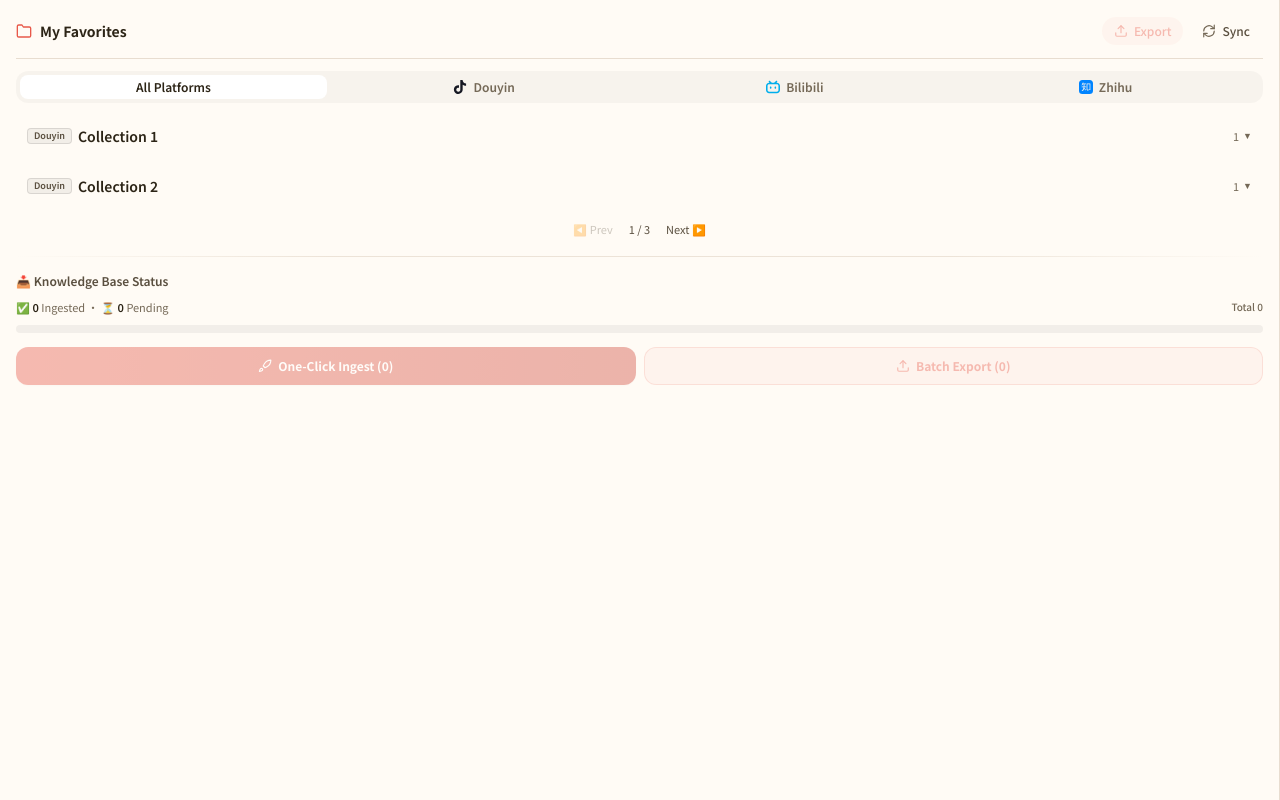
Test: P2 — the collection page resets only on platform change, per-page change, or an explicit refresh (AC2) › P2c. clicking the already-selected platform (an explicit refresh) resets the page to 1
expect the text "Collection 1" is shown: met, box [78,126,158,146]
What coordinates should you click on to do the following:
click the button "Next ▶"
I would click on:
 (686, 229)
Its box is [658,219,714,240].
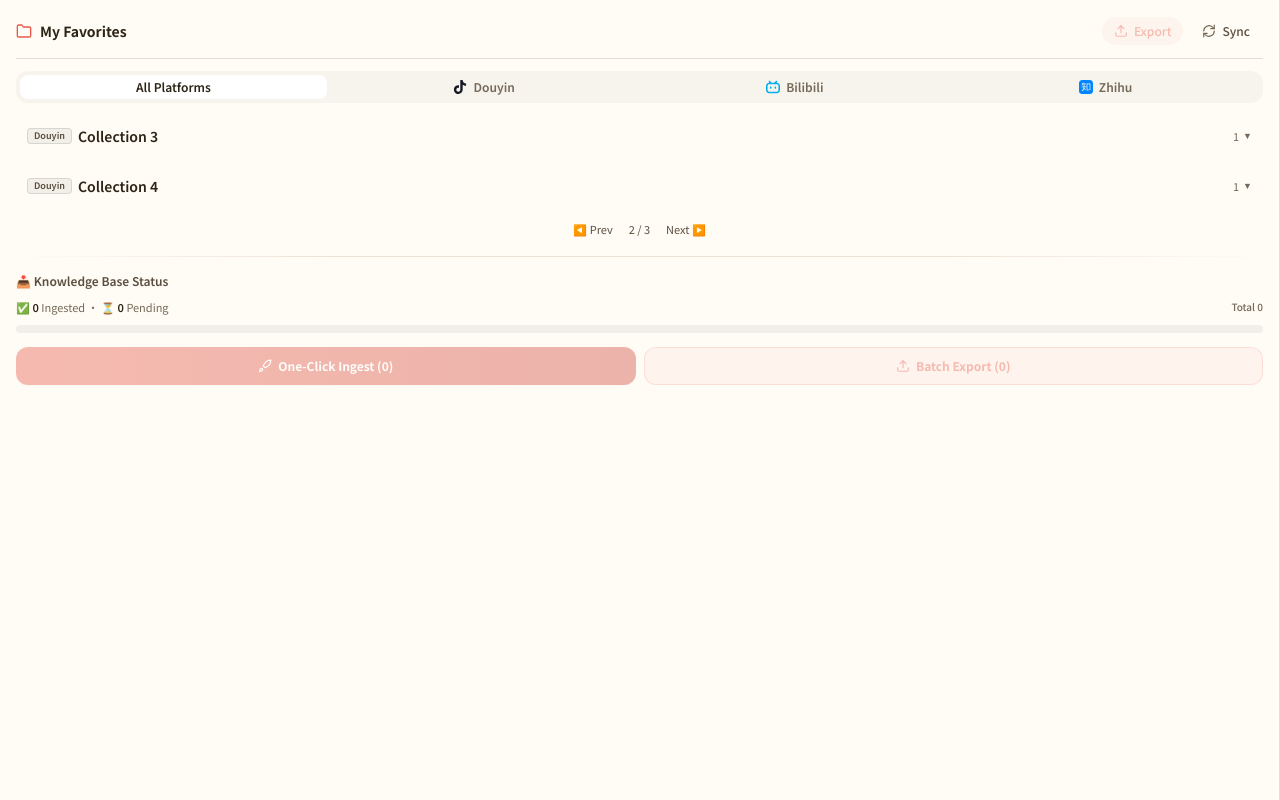
expect the text "Collection 3" is shown: met, box [78,126,158,146]
What coordinates should you click on to do the following:
click the button "All Platforms"
I would click on:
 (173, 87)
Its box is [20,75,327,99].
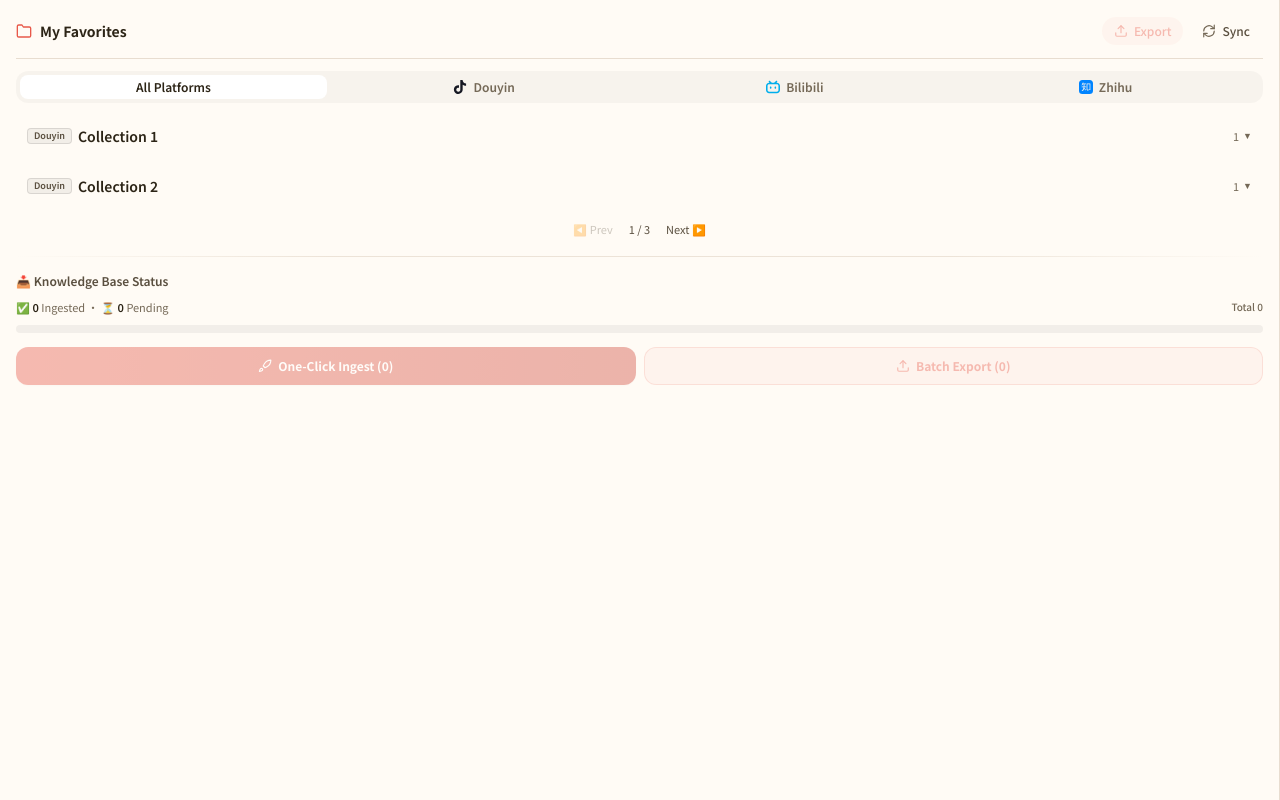
expect the text "Collection 1" is shown: met, box [78,126,158,146]
